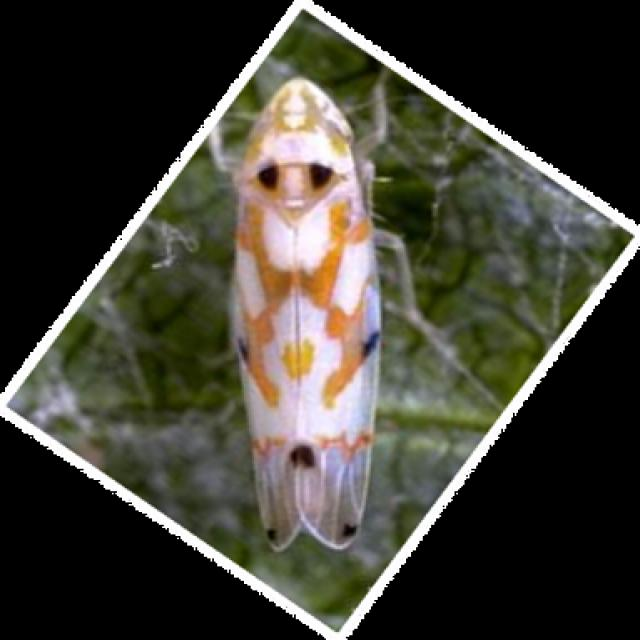Yechan: (216, 80, 429, 562)
